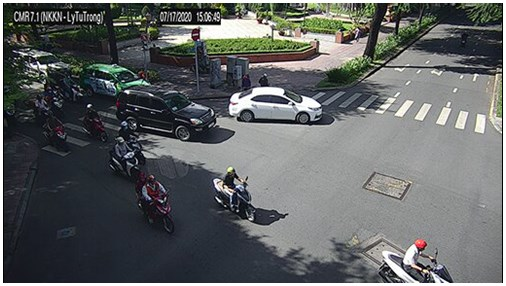di_bo: (354, 27, 362, 43)
xe_ban_tai: (18, 50, 69, 83)
xe_hoi: (115, 85, 216, 142), (228, 86, 323, 124)
xe_may: (379, 239, 455, 283), (135, 172, 177, 234), (212, 166, 257, 222), (109, 137, 141, 180), (117, 120, 145, 165), (43, 112, 70, 154), (82, 104, 108, 142), (43, 87, 65, 116), (35, 96, 52, 120), (241, 73, 251, 91), (259, 73, 270, 85), (461, 29, 468, 46)
xe_taxi: (79, 64, 151, 98)
